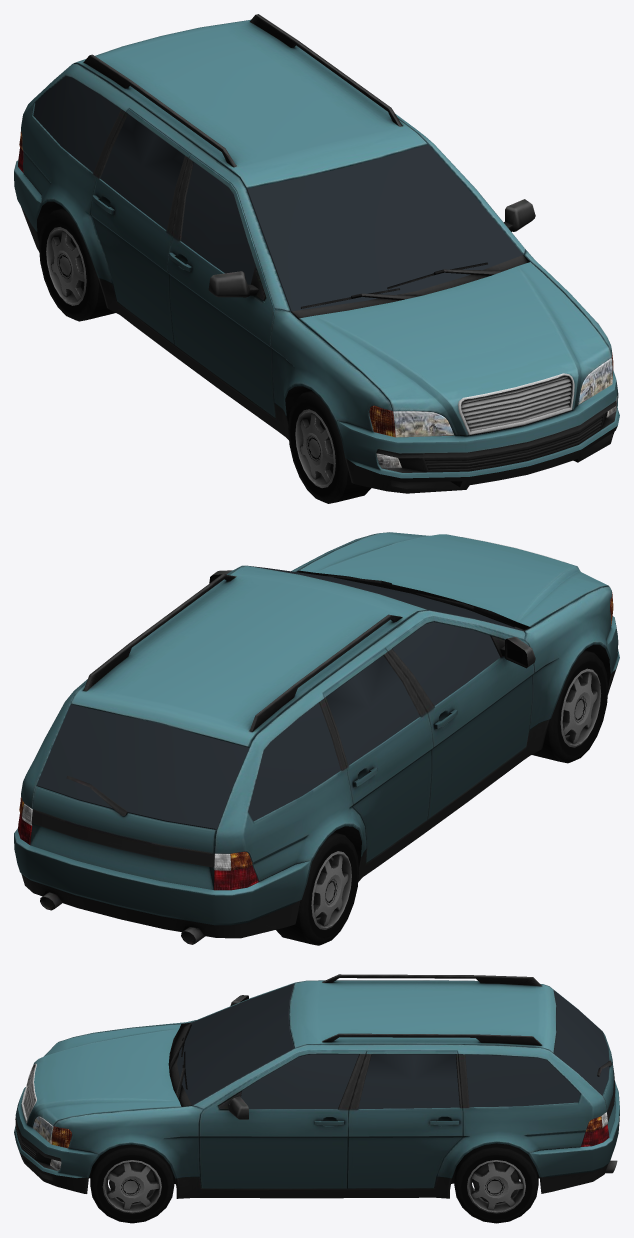
The model's file is car_wagon.gltf.
3 views of the same model, one above another, from view 1: azimuth 30°, elevation 25°; view 2: azimuth 150°, elevation 25°; view 3: azimuth 270°, elevation 25° (orthographic). The views are drawn at different scales.
Visible parts, largest first — view 1: car_wagon; view 2: car_wagon; view 3: car_wagon.
Part boxes in pixels (<box>): car_wagon: <box>14,14,619,503</box>; car_wagon: <box>14,532,619,945</box>; car_wagon: <box>14,974,619,1223</box>.
Bounding box in the file's own units: 2.09 × 1.48 × 4.7.
1 material, 1 textured.
